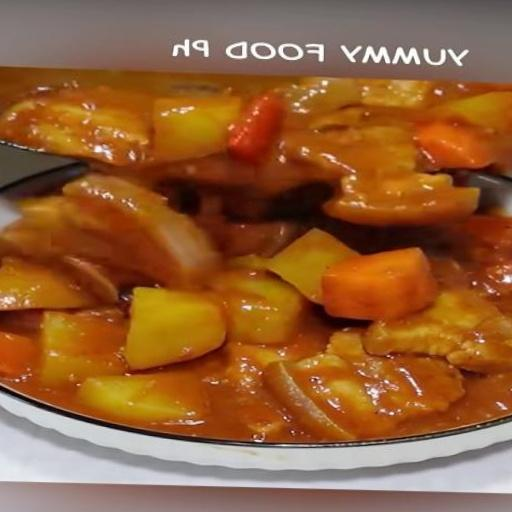pork caldereta: (0, 60, 511, 449)
